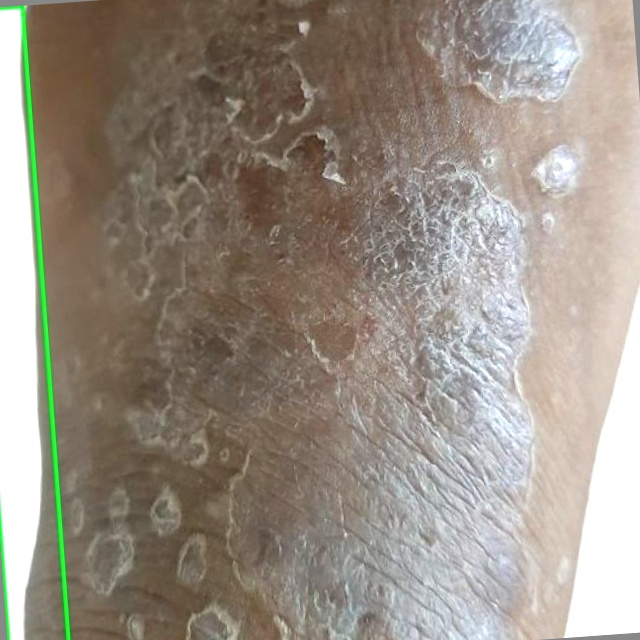Contact Dermatitis: (0, 6, 68, 639)
